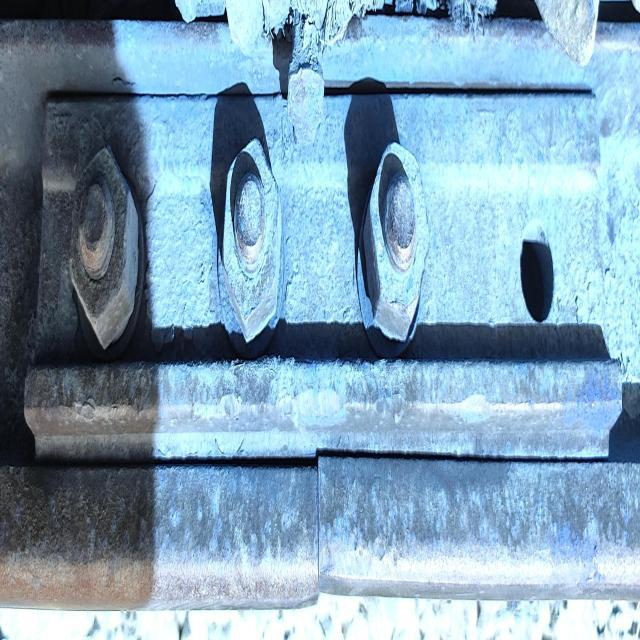Defective Joint: (48, 101, 615, 479)
